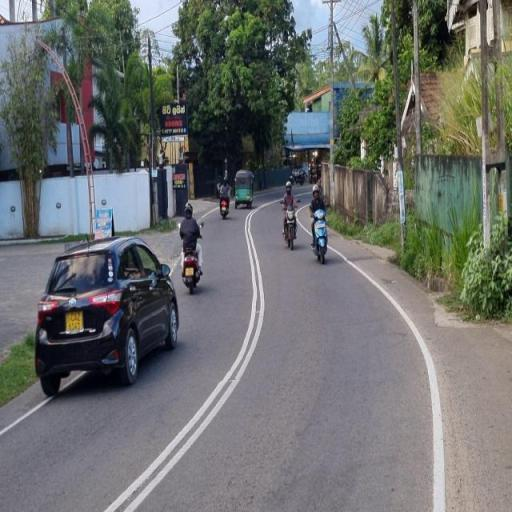double_white_line: (106, 204, 266, 511)
